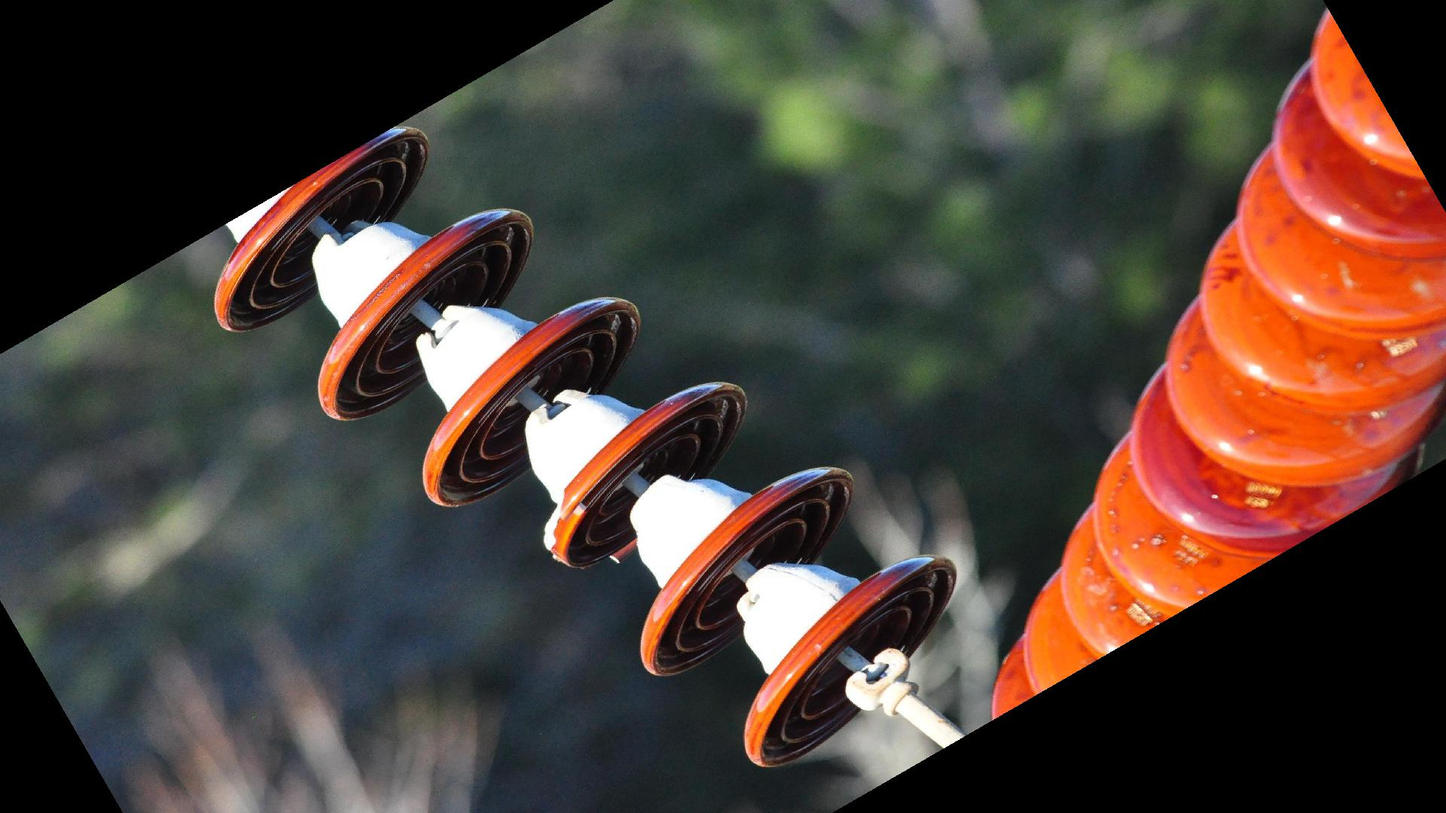insulator: (200, 117, 966, 773), (984, 1, 1446, 731)
insulator_breakage: (538, 482, 627, 576)
